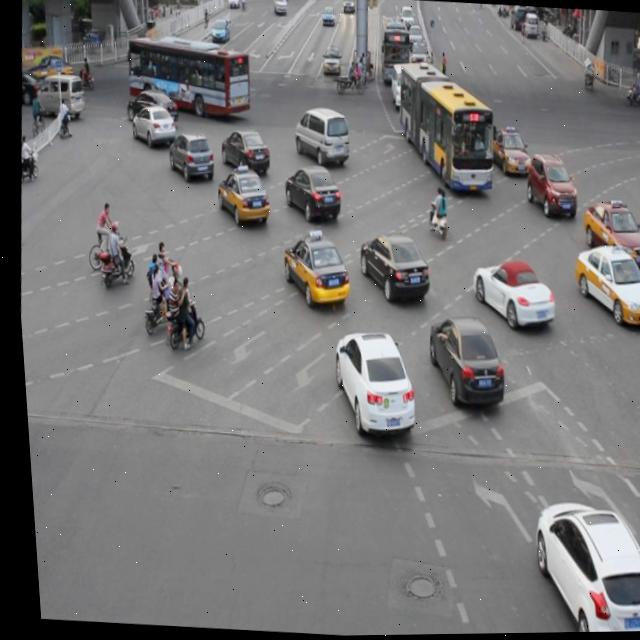car: (517, 496, 640, 634), (322, 326, 415, 434), (418, 311, 503, 409), (463, 256, 553, 330), (565, 242, 640, 328), (351, 230, 429, 304), (274, 232, 348, 307), (574, 198, 640, 270), (520, 151, 576, 219), (277, 162, 340, 222), (212, 163, 269, 226), (163, 129, 214, 184), (217, 125, 269, 176), (485, 125, 530, 177), (123, 87, 178, 126), (127, 103, 175, 146)
truck: (289, 105, 349, 167)
van: (390, 62, 497, 194), (123, 35, 252, 115)
